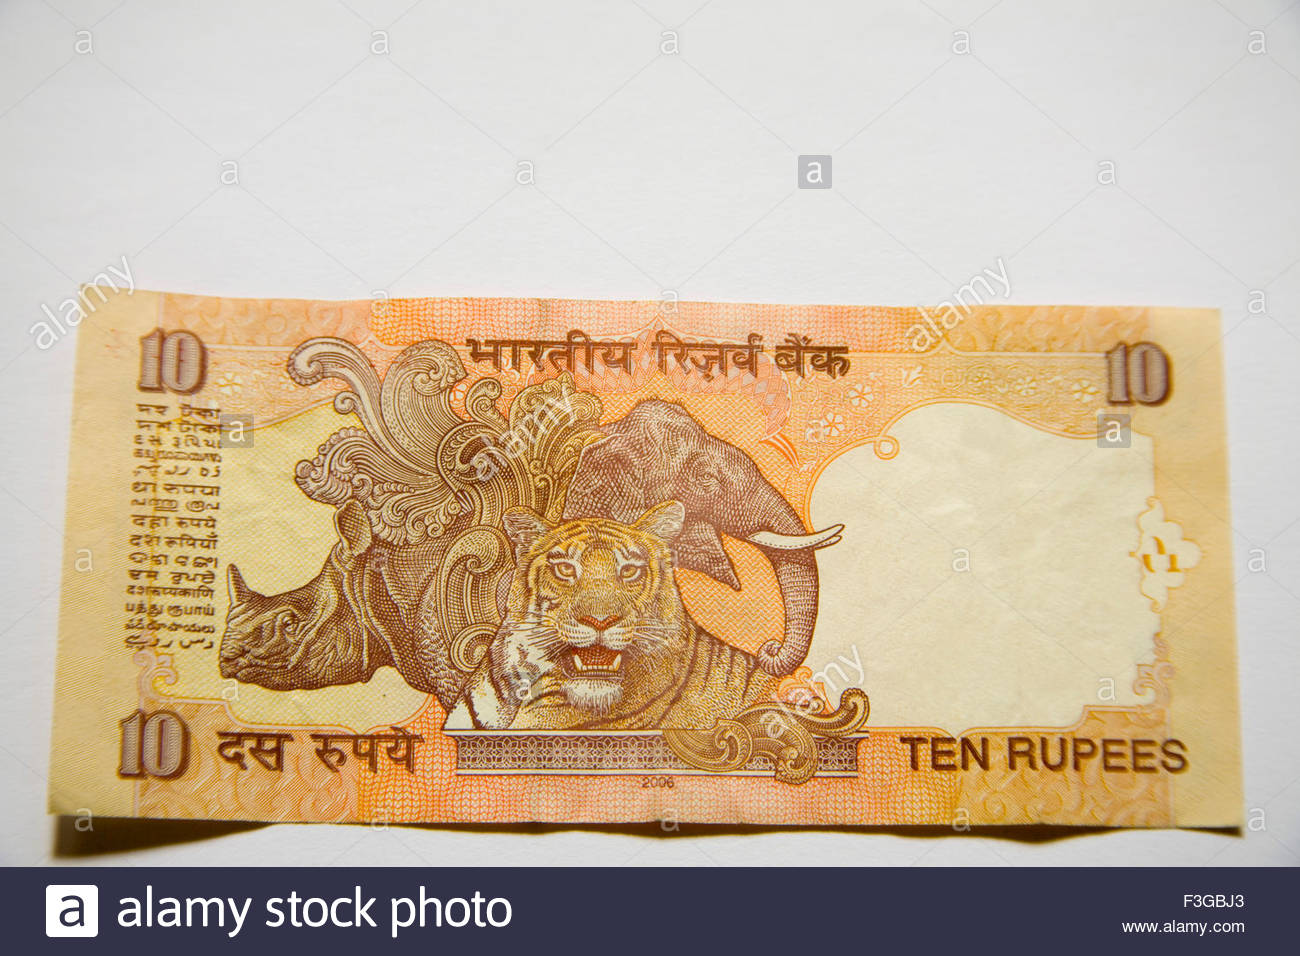ten_rupees_note: (56, 278, 1248, 833)
